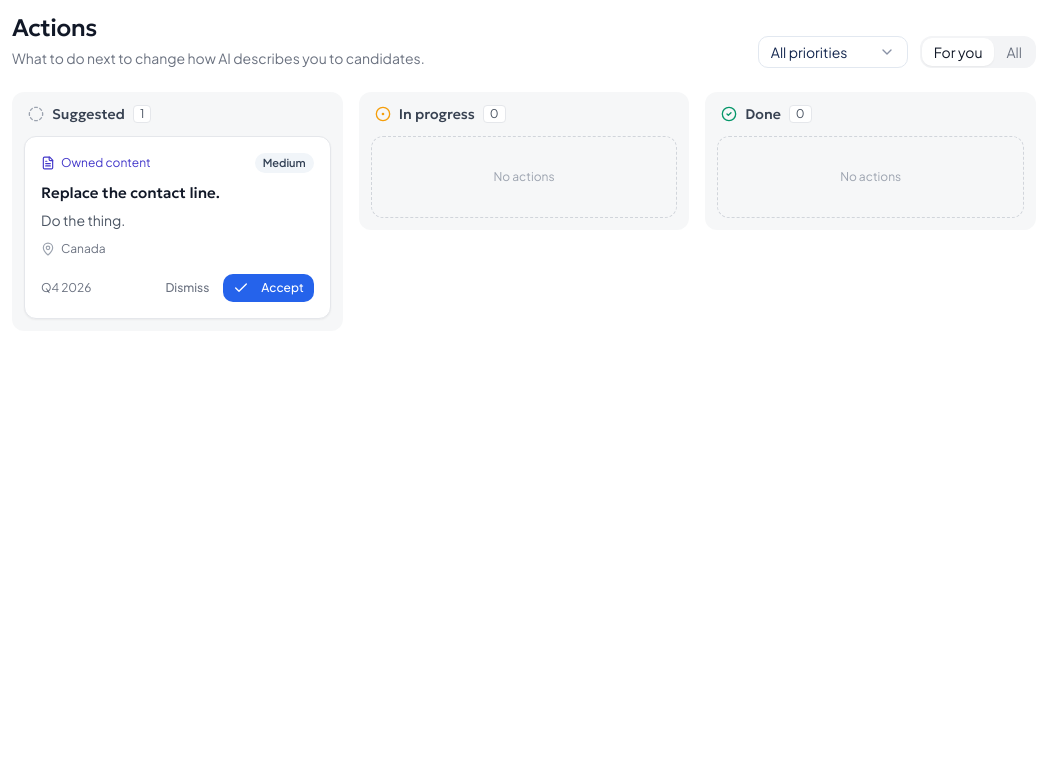
Test case: ActionsTab priority › under a market, For you shows only that market; All adds the rest sorted High, Medium, Low, unlabelled
The image size is (1048, 780).
Check: the heading "Suggested" is shown, box [52,104,125,124]
Check: the text named "Medium priority" reads "Medium", box [263,156,306,169]
"All" adds the Global, Germany and unlabelled actions.
Click the button "All".
click(1014, 52)  # box [994,38,1034,66]
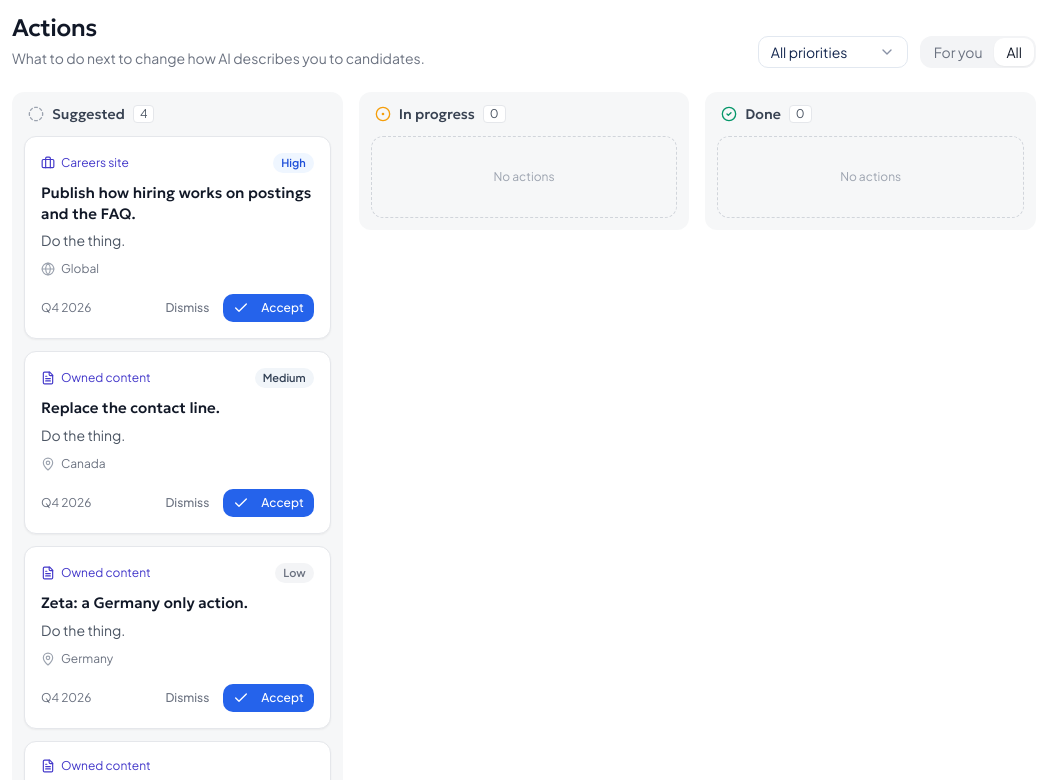
Check: the text named "Low priority" reads "Low", box [283,566,306,579]
